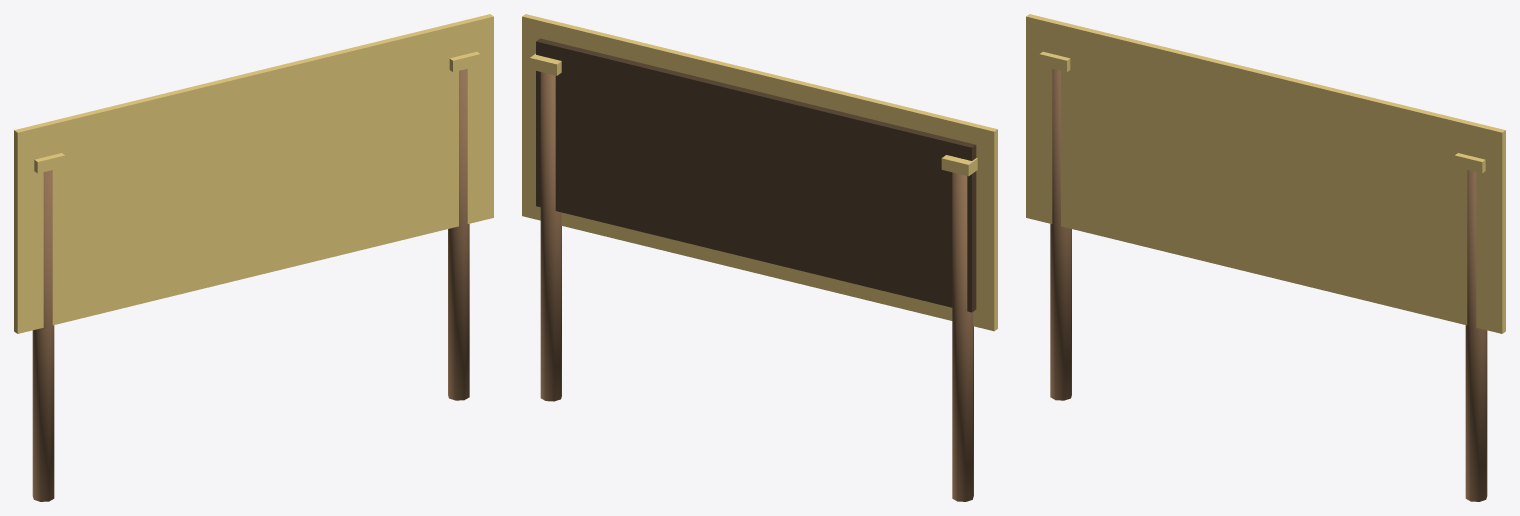
Rendered from SignPost.glb.
3 views of the same model, side by side, from view 1: azimuth 30°, elevation 25°; view 2: azimuth 150°, elevation 25°; view 3: azimuth 330°, elevation 25° (orthographic).
Parts seen in each view (by area): view 1: Frame, Post, Post.001; view 2: Board, Frame, Post.001, Post, Cap; view 3: Frame, Post.001, Post.
Part boxes in pixels (left/top/right/bottom): Frame: left=14, top=14, right=493, bottom=333; Post: left=32, top=170, right=54, bottom=501; Post.001: left=448, top=69, right=469, bottom=400; Board: left=536, top=38, right=976, bottom=312; Frame: left=522, top=14, right=997, bottom=331; Post.001: left=540, top=72, right=561, bottom=401; Post: left=952, top=172, right=973, bottom=501; Cap: left=941, top=155, right=977, bottom=176; Frame: left=1026, top=14, right=1505, bottom=333; Post.001: left=1465, top=170, right=1487, bottom=501; Post: left=1050, top=69, right=1071, bottom=400.
Bounding box in the file's own units: 7.8 × 5.88 × 0.45.
